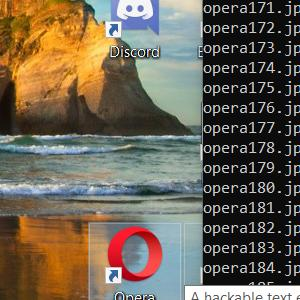opera: (106, 226, 163, 284)
